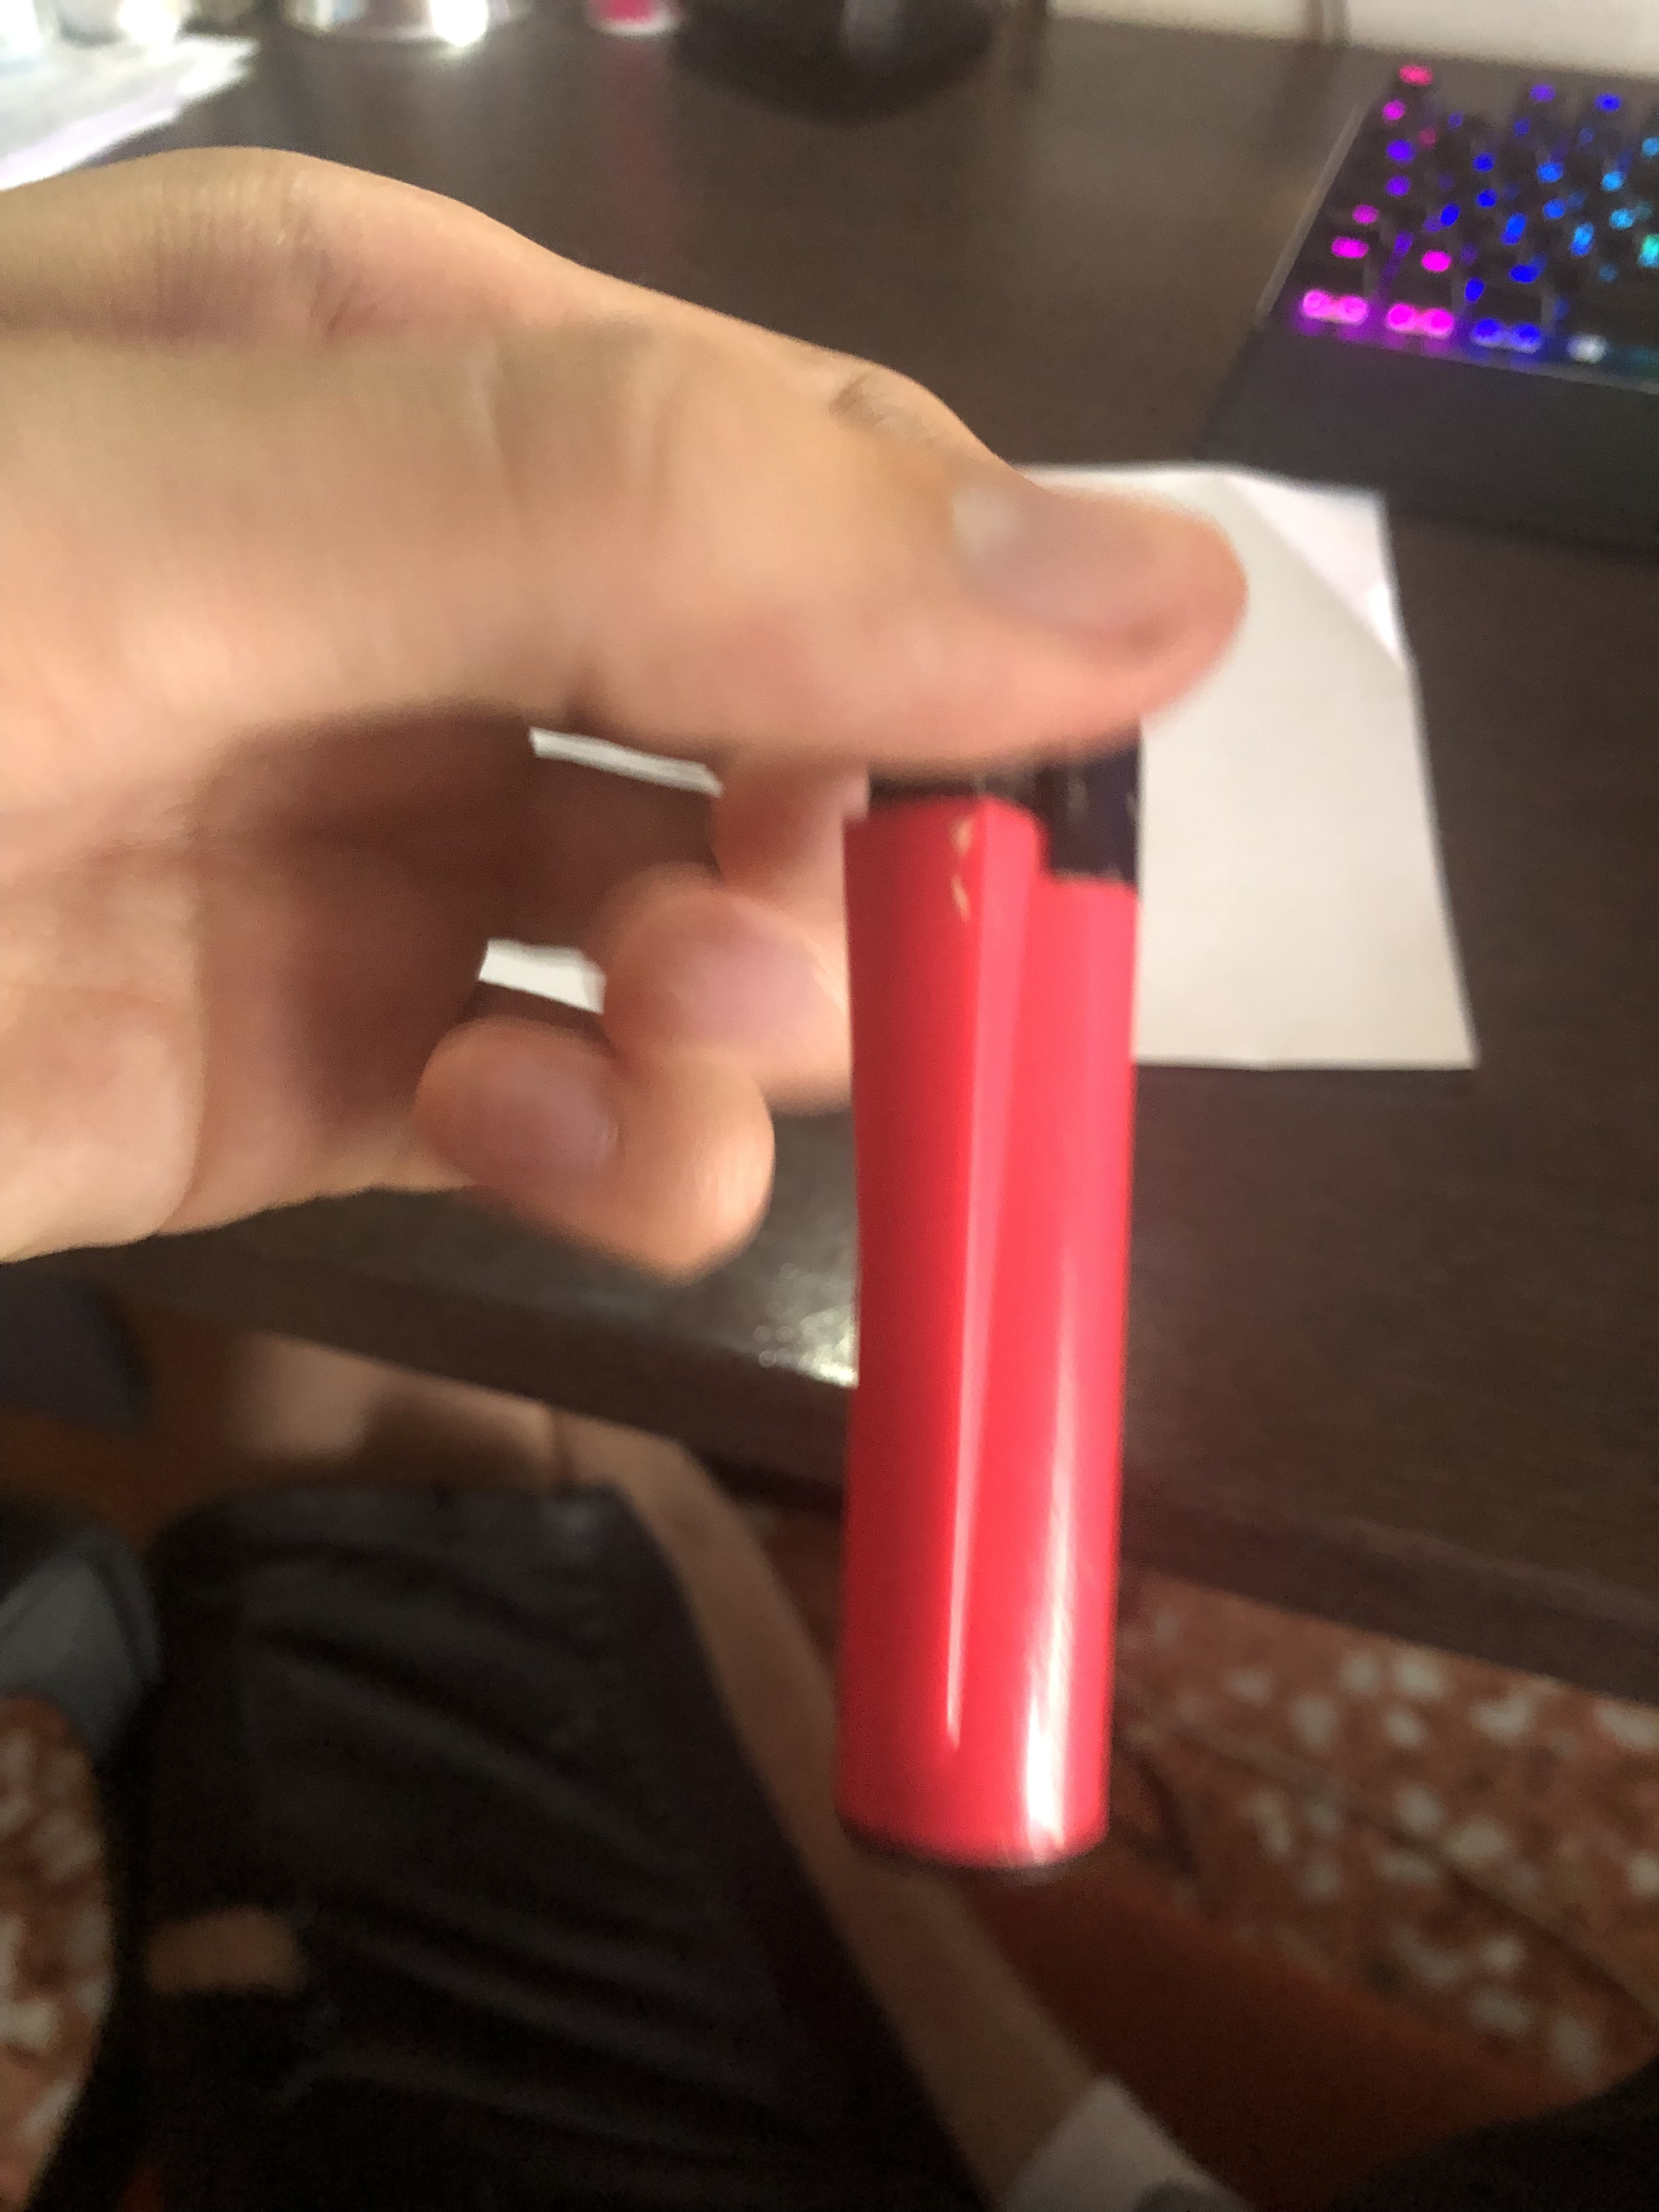Mechero: (838, 688, 1175, 1918)
